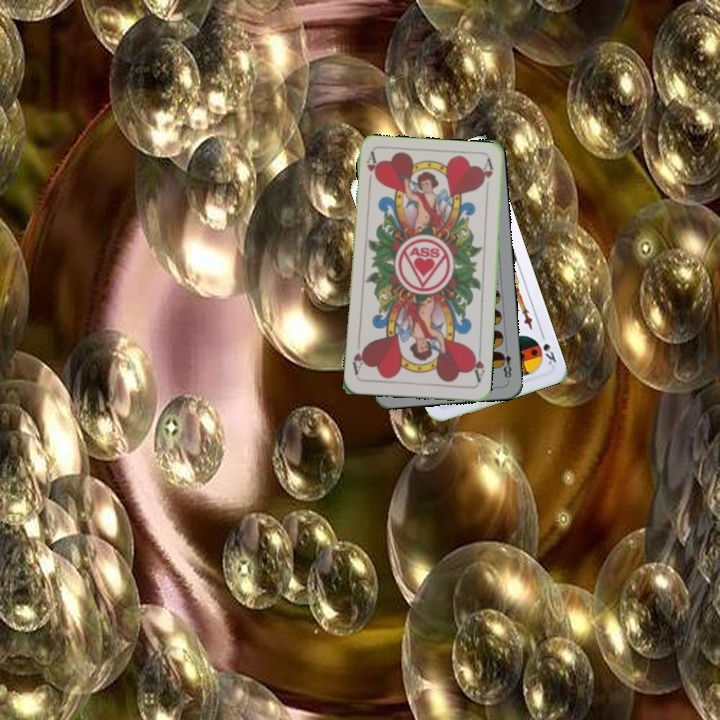E8: (496, 342, 514, 381)
HA: (468, 345, 487, 385), (363, 150, 379, 190)
SK: (537, 329, 559, 367)
